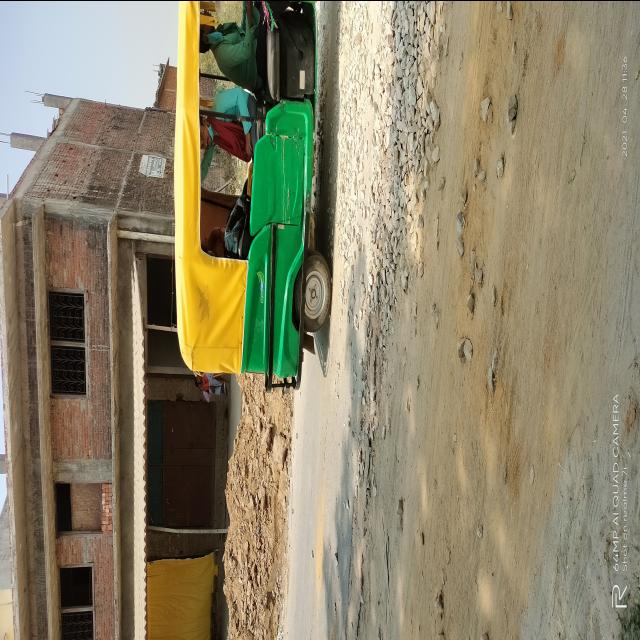Autorickshaw: (173, 0, 332, 393)
